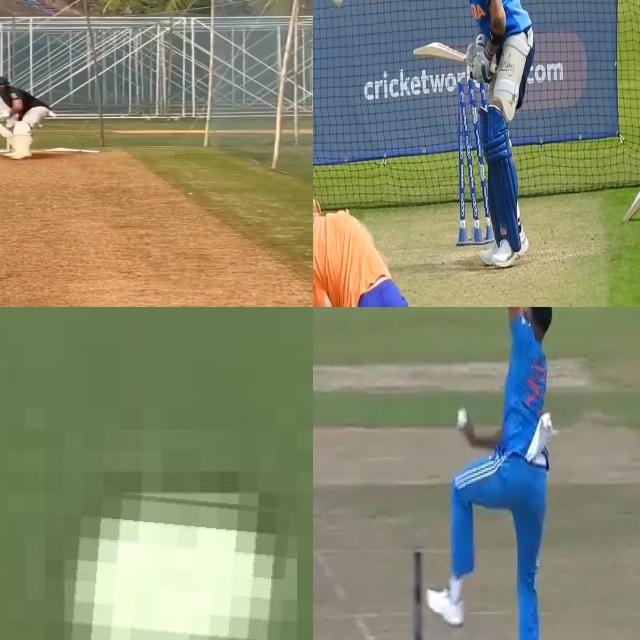Cricket ball: (67, 488, 291, 640), (455, 403, 473, 431), (331, 0, 346, 10)
Stumps: (455, 78, 488, 245)
